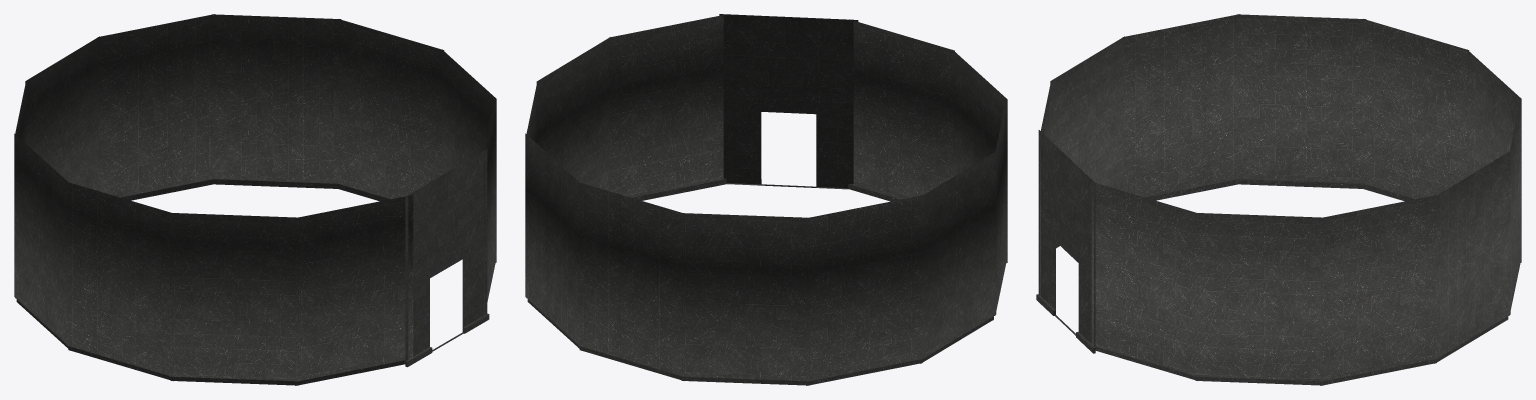
File: main_wall.fbx
3 views of the same model, side by side, from view 1: azimuth 30°, elevation 25°; view 2: azimuth 150°, elevation 25°; view 3: azimuth 270°, elevation 25° (orthographic).
Visible parts, largest first — view 1: wall007; view 2: wall007; view 3: wall007.
Part boxes in pixels (x1,y1,x2,y2): wall007: (14,14,496,385); wall007: (525,14,1007,385); wall007: (1036,14,1521,385).
Size of the model in its own units: 19.5 by 7.58 by 19.62.
